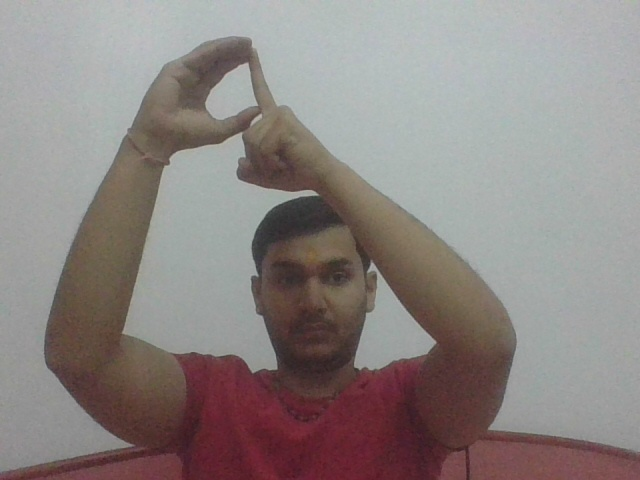D: (141, 32, 318, 191)
